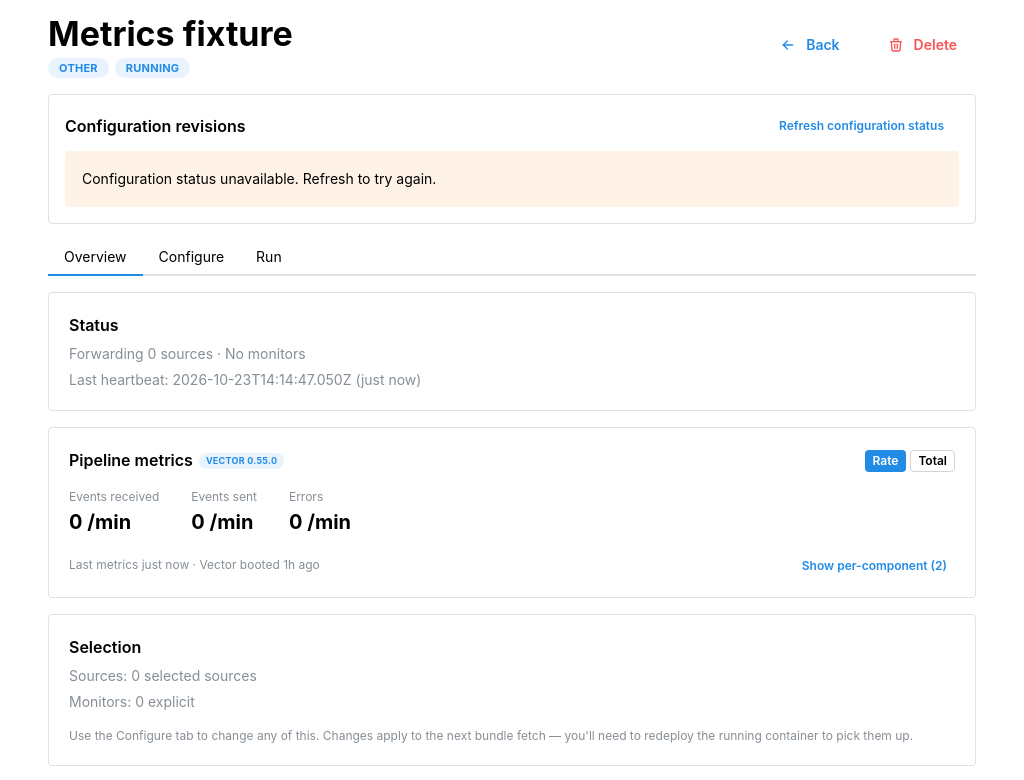
Scenario: shows unavailable first-observation rates and exact counters in the component table
This screenshot has width=1024, height=780.
Click the button "Show per-component (2)": coordinates (874, 566) [794,555,955,577]
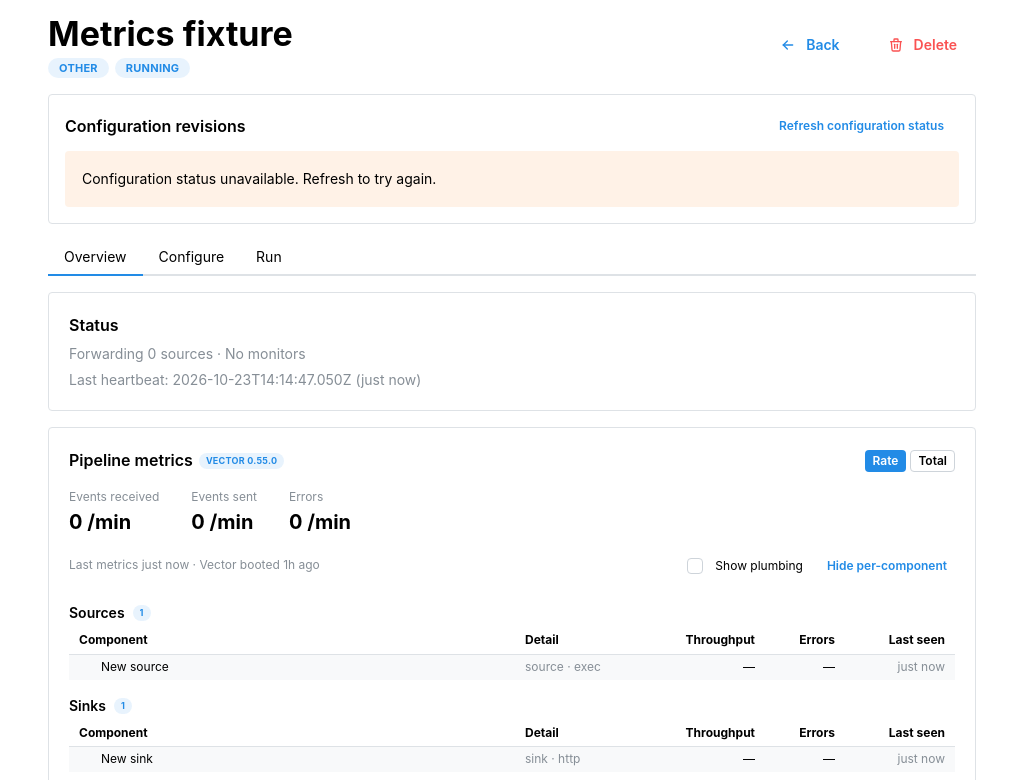
Result: the text "—" is shown 2 times at [743,659,755,674]; [823,659,835,674]
Click the button "Total": coordinates (933, 461) [910,450,955,472]
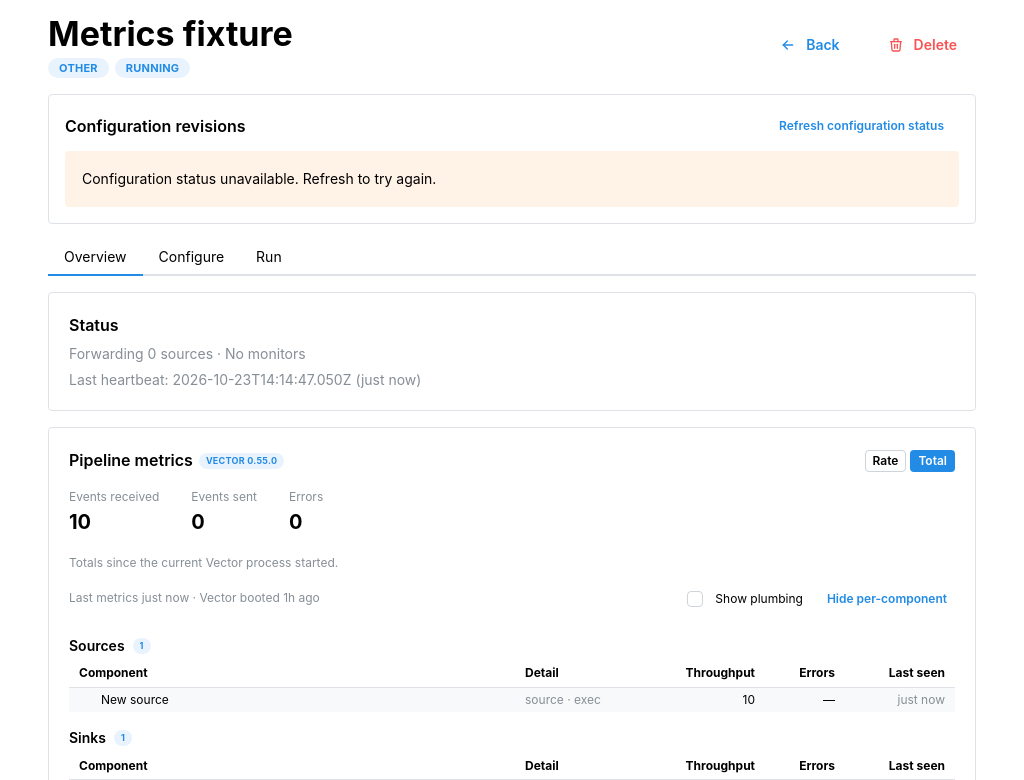
Result: the text "10" in the row of "New source" is shown at [742,692,755,706]
